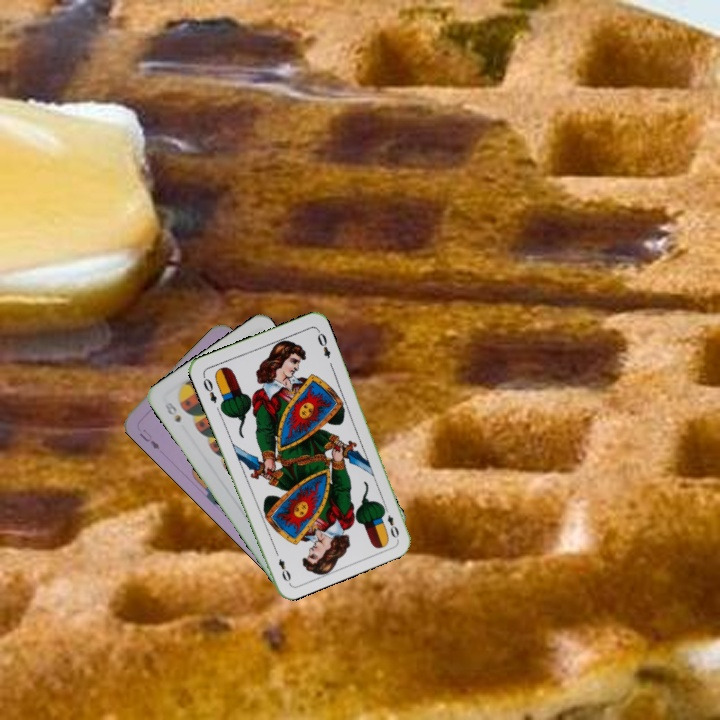EO: (379, 502, 402, 541), (199, 371, 219, 406)
EU: (135, 425, 162, 452)
S8: (160, 398, 184, 425)
